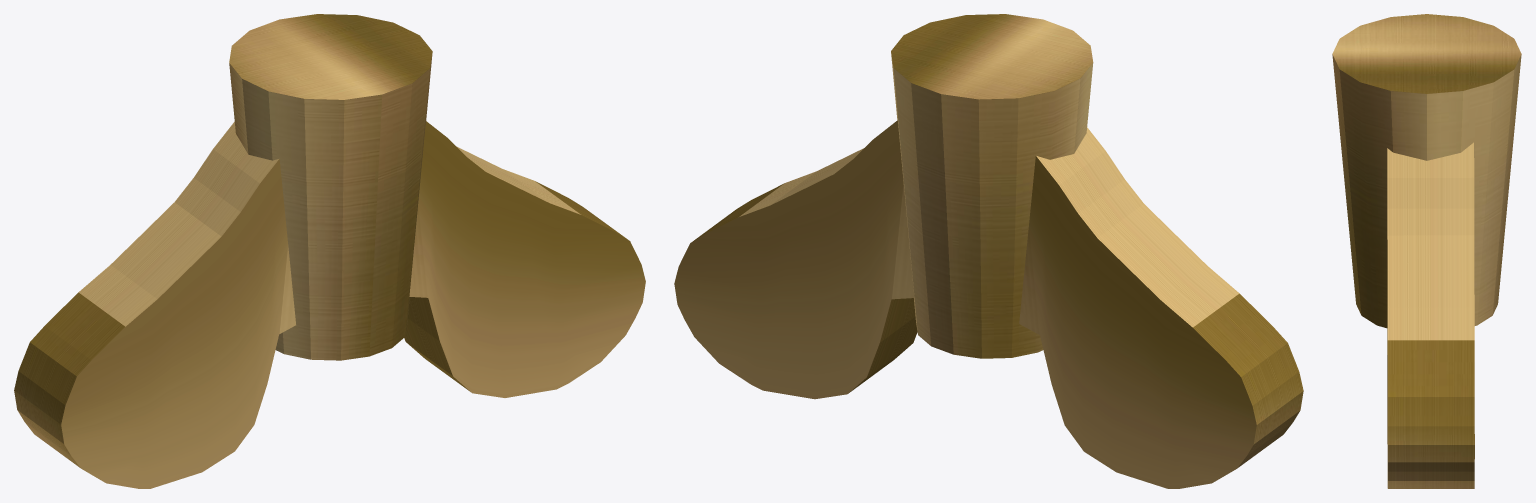
File: ecrou.dae
The picture shows the model from 3 angles, left to right: view 1: azimuth 30°, elevation 25°; view 2: azimuth 150°, elevation 25°; view 3: azimuth 270°, elevation 25°; orthographic projection. The views are drawn at different scales.
Visible parts, largest first — view 1: Ec1, Ecrou1; view 2: Ec1, Ecrou1; view 3: Ecrou1, Ec1.
Boxes of the visible parts, x1=… form: Ec1: x1=14, y1=121, x2=645, y2=488; Ecrou1: x1=229, y1=14, x2=432, y2=360; Ec1: x1=674, y1=120, x2=1303, y2=488; Ecrou1: x1=891, y1=14, x2=1093, y2=358; Ecrou1: x1=1332, y1=14, x2=1521, y2=328; Ec1: x1=1387, y1=142, x2=1474, y2=488.
Bounding box in the file's own units: 1.74 × 0.5294 × 1.04.
2 materials, 2 textured.
